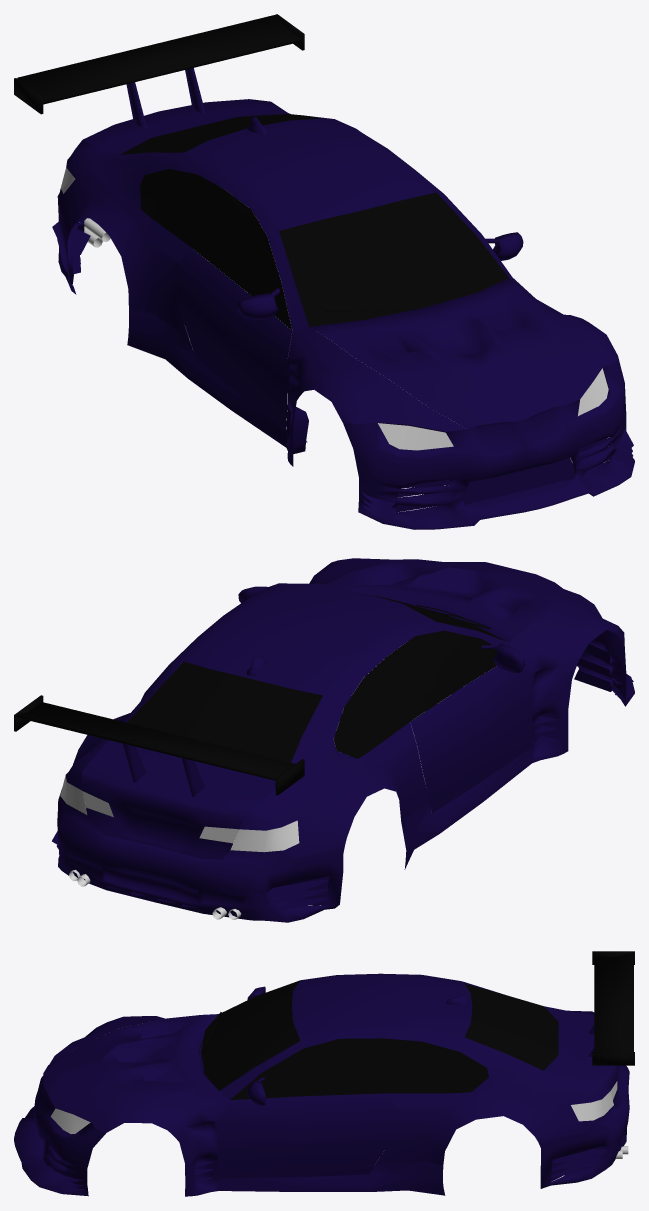
The model's file is car_body.fbx.
The picture shows the model from 3 angles, top to bottom: view 1: azimuth 30°, elevation 25°; view 2: azimuth 150°, elevation 25°; view 3: azimuth 270°, elevation 25°; orthographic projection. The views are drawn at different scales.
Parts seen in each view (by area): view 1: car24; view 2: car24; view 3: car24.
Part boxes in pixels (bbox=[...]): car24: bbox=[14, 14, 634, 529]; car24: bbox=[14, 558, 634, 922]; car24: bbox=[14, 951, 634, 1196].
Size of the model in its own units: 1.91 by 4.58 by 1.22.
